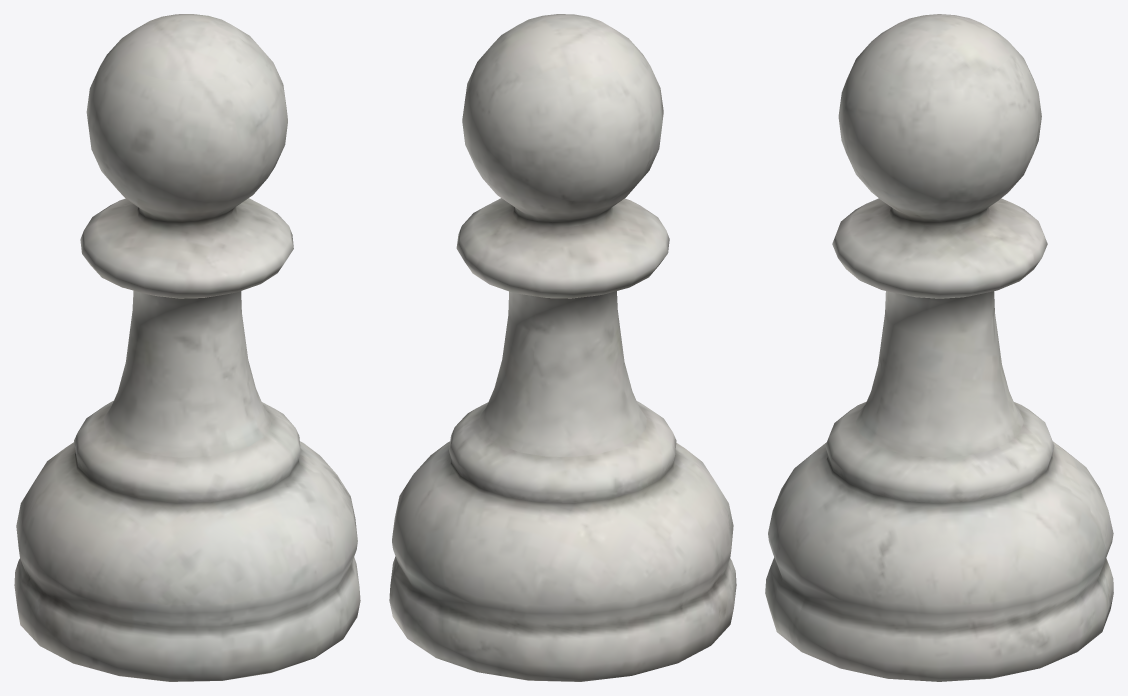
The picture shows the model from 3 angles, left to right: view 1: azimuth 30°, elevation 25°; view 2: azimuth 150°, elevation 25°; view 3: azimuth 270°, elevation 25°; orthographic projection.
Parts seen in each view (by area): view 1: piece_pawn_white_02; view 2: piece_pawn_white_02; view 3: piece_pawn_white_02.
Part boxes in pixels (<box>): piece_pawn_white_02: <box>14,14,360,681</box>; piece_pawn_white_02: <box>389,14,736,681</box>; piece_pawn_white_02: <box>765,14,1113,681</box>.
Size of the model in its own units: 0.0289 by 0.0537 by 0.0289.
1 material, 1 textured.
